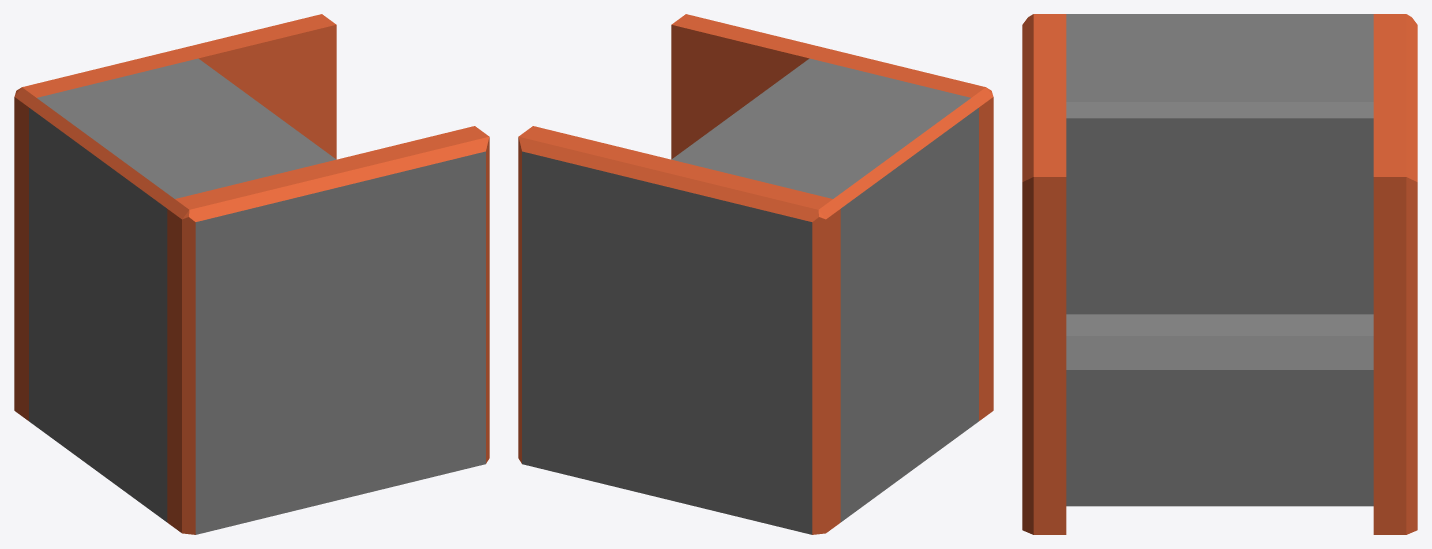
Rendered from compressor.glb.
3 renders of one model, left to right at view 1: azimuth 30°, elevation 25°; view 2: azimuth 150°, elevation 25°; view 3: azimuth 270°, elevation 25°, orthographic. The views are drawn at different scales.
Parts seen in each view (by area): view 1: Compressor; view 2: Compressor; view 3: Compressor.
Part boxes in pixels (x1=…): Compressor: x1=14, y1=14, x2=489, y2=534; Compressor: x1=518, y1=14, x2=993, y2=534; Compressor: x1=1022, y1=14, x2=1417, y2=534.
Bounding box in the file's own units: 100 × 100 × 100.
